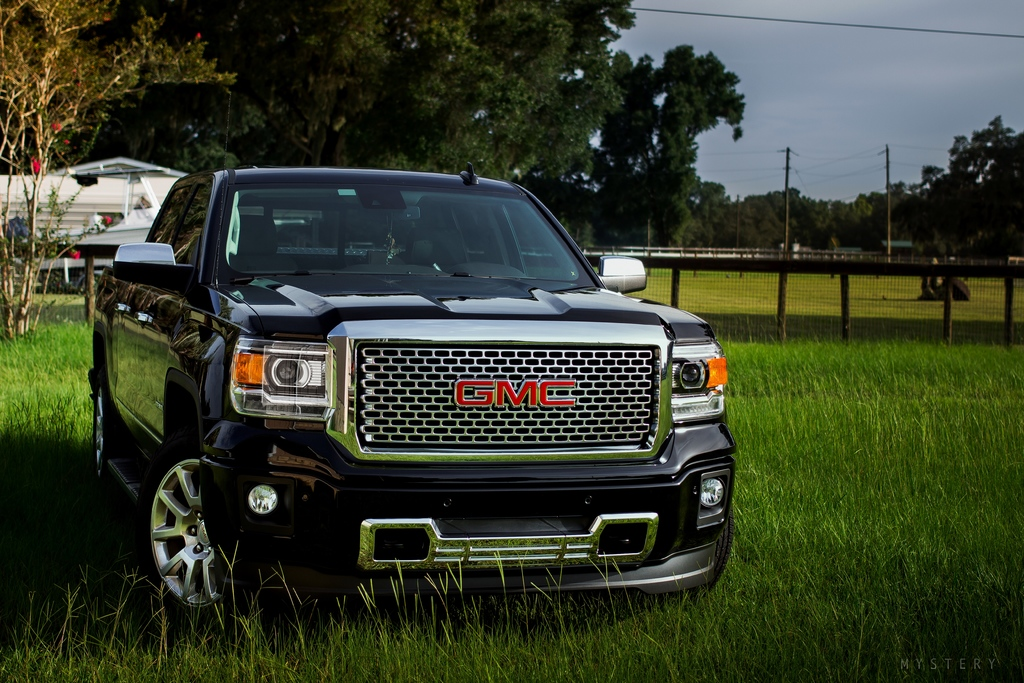Tree: (0, 0, 1024, 337)
